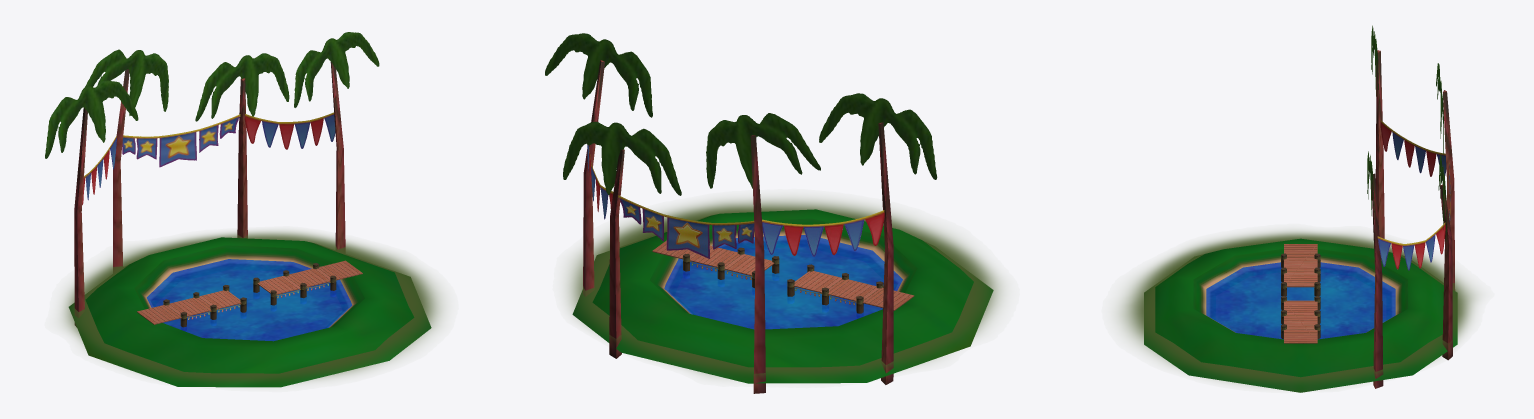
File: tug.glb
3 views of the same model, side by side, from view 1: azimuth 30°, elevation 25°; view 2: azimuth 150°, elevation 25°; view 3: azimuth 270°, elevation 25° (orthographic). The views are drawn at different scales.
Visible parts, largest first — view 1: hill_mesh, tugOfWar_shadow, water_mesh, palmTop_01__billboard, palmTop_03__billboard, treeBanner_03, palmTop_02__billboard, palmTop_04__billboard, palmTrunk_01, treeBanner_04, platform_right_mesh, platform_left_mesh (+4 smaller); view 2: hill_mesh, tugOfWar_shadow, water_mesh, palmTop_03__billboard, palmTop_01__billboard, palmTop_02__billboard, treeBanner_03, palmTop_04__billboard, treeBanner_02, palmTrunk_02, palmTrunk_01, palmTrunk_03 (+4 smaller); view 3: hill_mesh, tugOfWar_shadow, water_mesh, palmTrunk_04, platform_left_mesh, palmTrunk_03, platform_right_mesh, palmTrunk_01, treeBanner_04, treeBanner_02, palmTrunk_02.
Boxes of the visible parts, box(x1,y1,x2,y2) form: hill_mesh: box(69, 237, 431, 387); tugOfWar_shadow: box(61, 231, 443, 385); water_mesh: box(146, 259, 352, 341); palmTop_01__billboard: box(45, 80, 138, 158); palmTop_03__billboard: box(195, 53, 289, 121); treeBanner_03: box(122, 114, 240, 167); palmTop_02__billboard: box(85, 49, 168, 115); palmTop_04__billboard: box(294, 32, 379, 107); palmTrunk_01: box(74, 107, 87, 327); treeBanner_04: box(244, 112, 335, 149); platform_right_mesh: box(137, 290, 241, 324); platform_left_mesh: box(257, 260, 362, 294); hill_mesh: box(572, 209, 993, 383); tugOfWar_shadow: box(567, 198, 1002, 380); water_mesh: box(664, 235, 902, 329); palmTop_03__billboard: box(563, 121, 681, 195); palmTop_01__billboard: box(819, 93, 937, 179); palmTop_02__billboard: box(706, 113, 820, 188); treeBanner_03: box(618, 195, 754, 258); palmTop_04__billboard: box(545, 33, 652, 117); treeBanner_02: box(762, 210, 884, 256); palmTrunk_02: box(750, 135, 765, 393); palmTrunk_01: box(878, 122, 893, 384); palmTrunk_03: box(609, 149, 624, 358); hill_mesh: box(1144, 238, 1457, 392); tugOfWar_shadow: box(1118, 230, 1477, 387); water_mesh: box(1206, 262, 1395, 339); palmTrunk_04: box(1371, 173, 1383, 388); platform_left_mesh: box(1284, 300, 1317, 343); palmTrunk_03: box(1440, 184, 1452, 360); platform_right_mesh: box(1284, 244, 1317, 287); palmTrunk_01: box(1375, 50, 1384, 238); treeBanner_04: box(1377, 222, 1445, 270); treeBanner_02: box(1380, 120, 1446, 180); palmTrunk_02: box(1443, 90, 1454, 290).
Size of the model in its own units: 70.08 by 42.78 by 66.65.
Materials: 8 (8 with a texture image).
